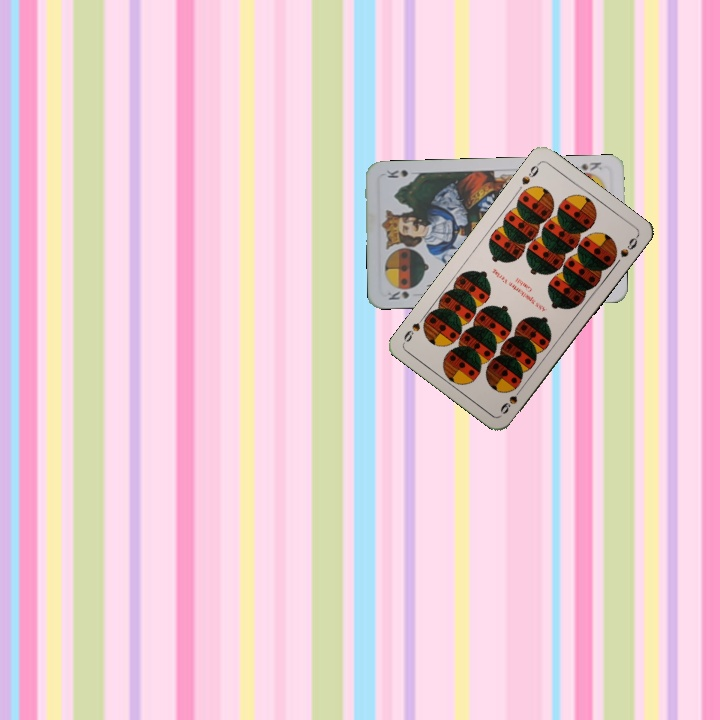S9: (496, 382, 526, 417), (517, 159, 543, 187)
SK: (384, 287, 412, 302), (576, 158, 604, 173)
